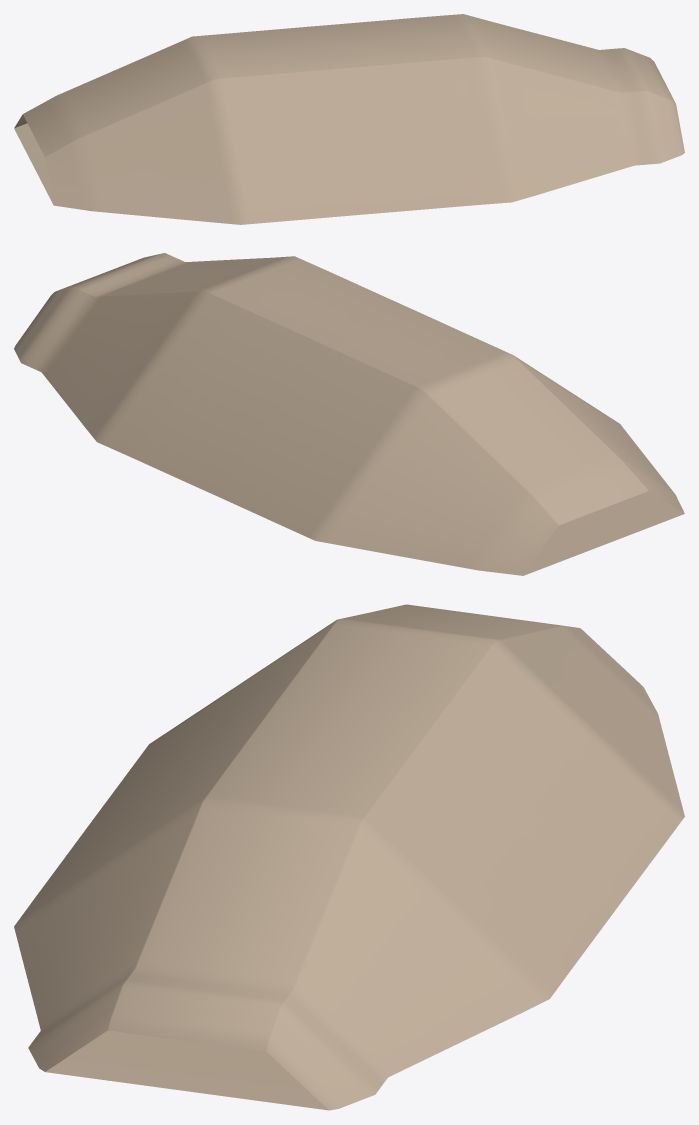
File: platform_2.glb
The picture shows the model from 3 angles, top to bottom: view 1: azimuth 30°, elevation 25°; view 2: azimuth 150°, elevation 25°; view 3: azimuth 270°, elevation 25°; orthographic projection. The views are drawn at different scales.
Size of the model in its own units: 19.37 by 3.14 by 12.1.
